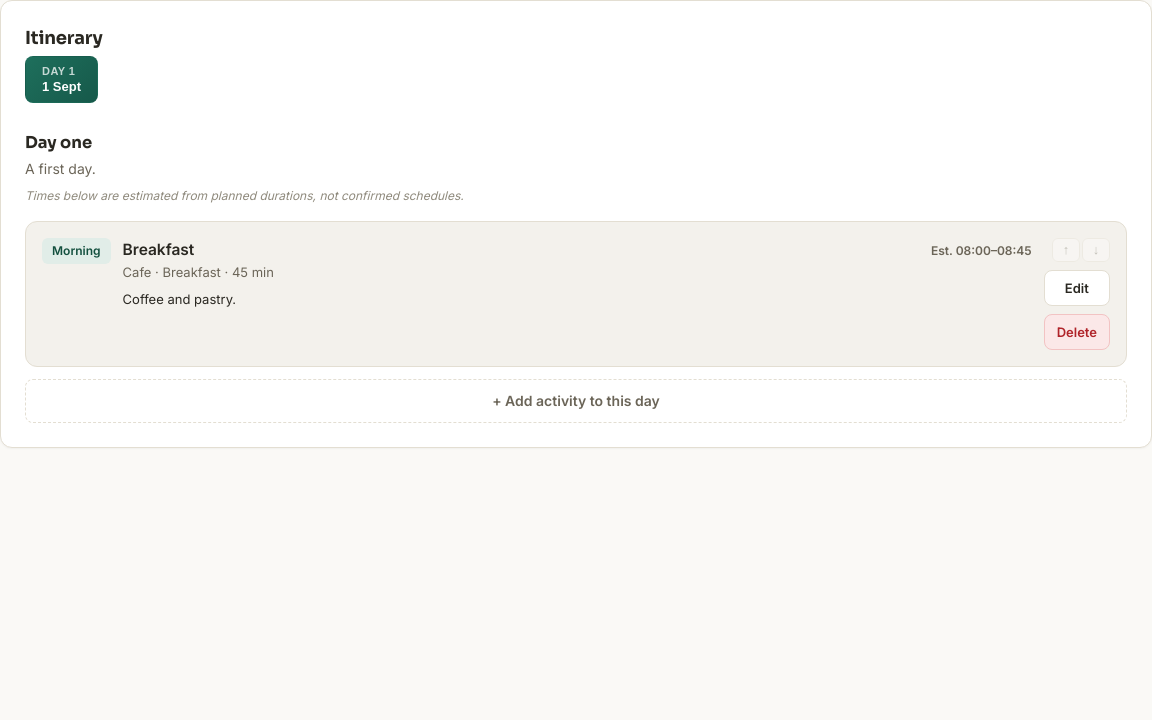
Scenario: ItineraryView › shows a safe error and stays editable when the API rejects an edit
Click the button "Edit" at (1077, 288), box [1044,270,1110,306]
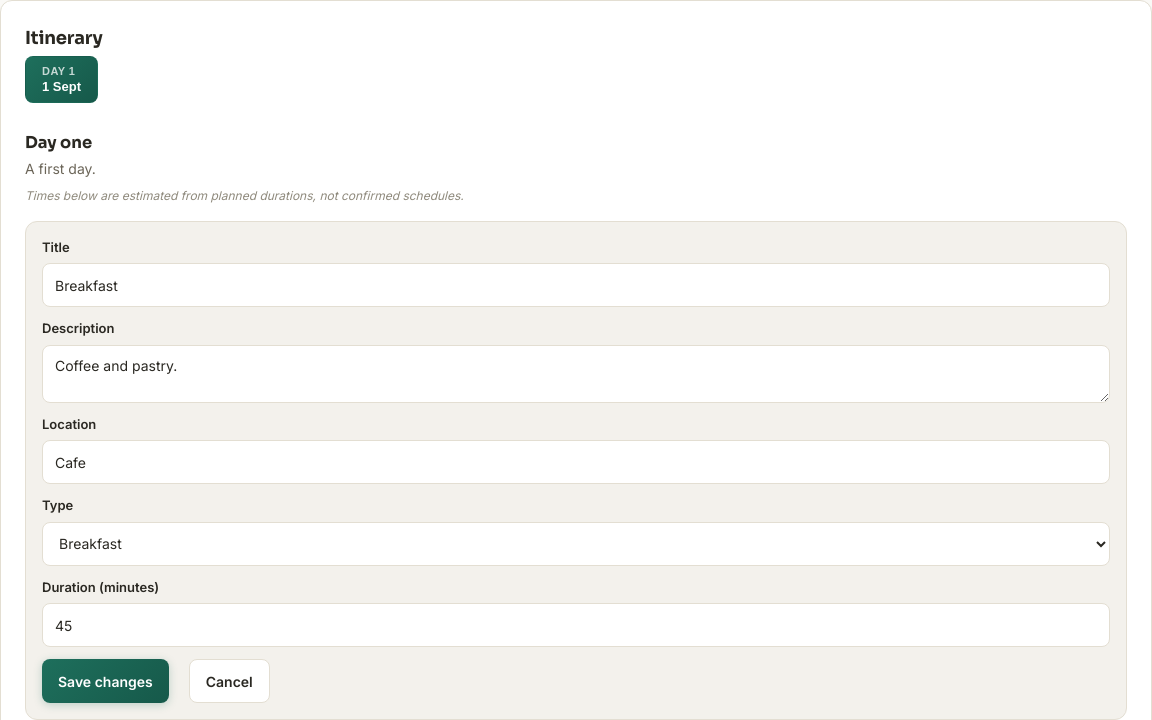
Click the button "Save changes" at (105, 681), box [42,659,169,703]
(page scrolled)
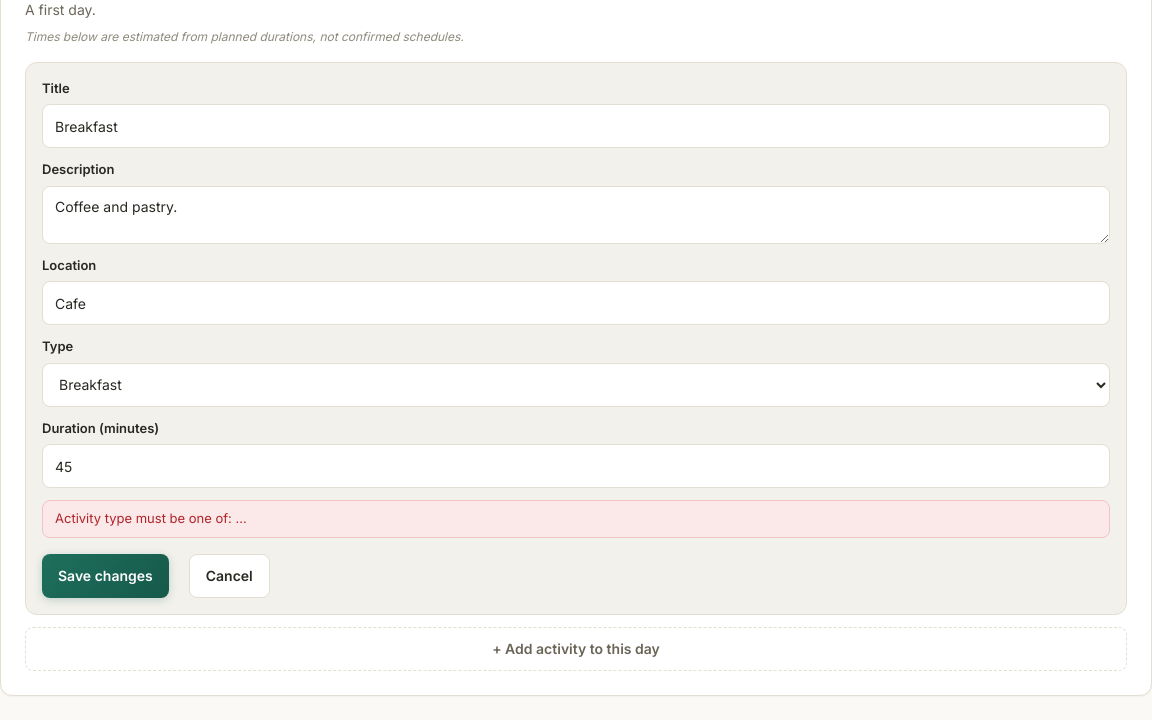
Expected: the button "Save changes" is shown, [42,554,169,598]
Expected: the message shows "Activity type must be one of", [55,510,247,526]
